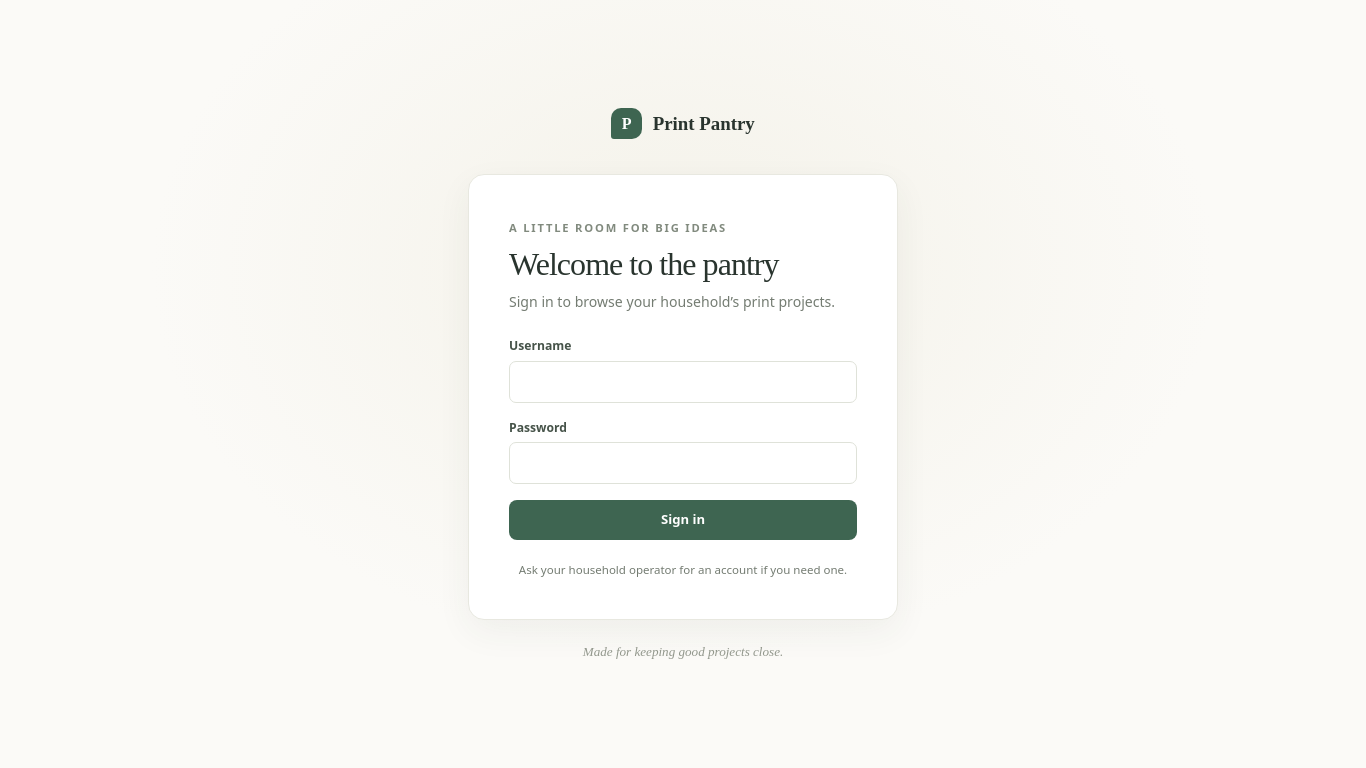
opens guided library import for operators without scanning automatically
Check: the heading "Welcome to the pantry" is shown, box [509, 246, 779, 282]
Type "maker" into the field labelled "Username" at (683, 382), box [509, 361, 857, 403]
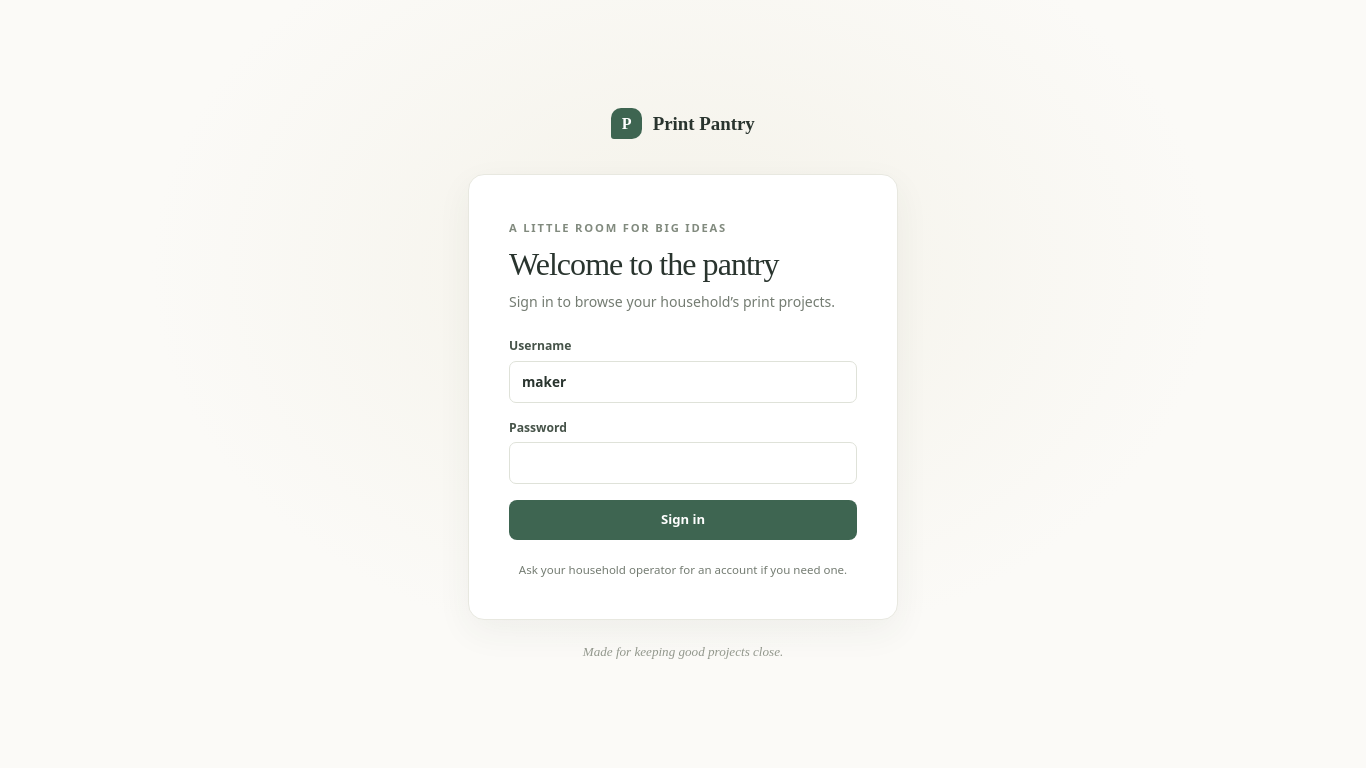
Type "pantry-pass" into the password field labelled "Password" at (683, 463), box [509, 442, 857, 484]
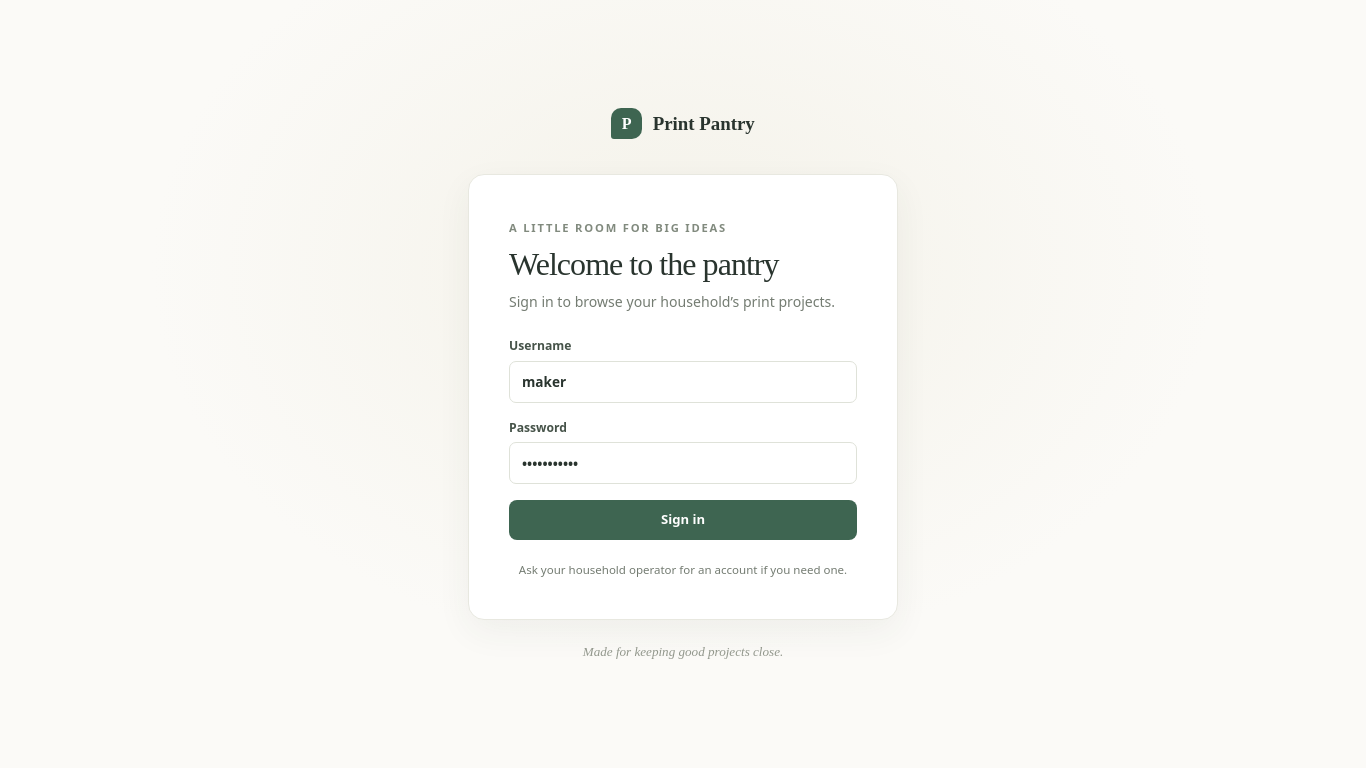
Click the button "Sign in" at (683, 520), box [509, 500, 857, 540]
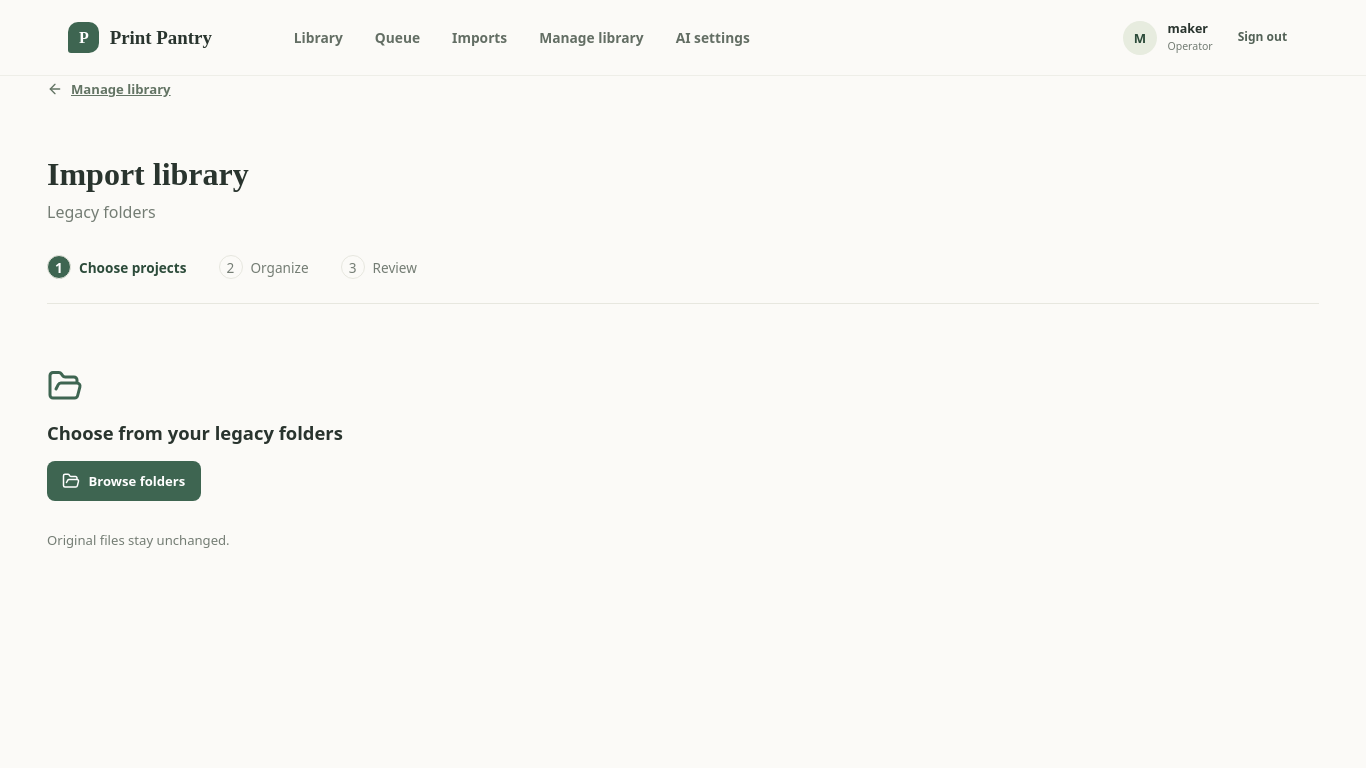
Check: the heading "Import library" is shown, box [47, 156, 249, 193]
Check: the button "Browse folders" is shown, box [47, 461, 201, 501]
